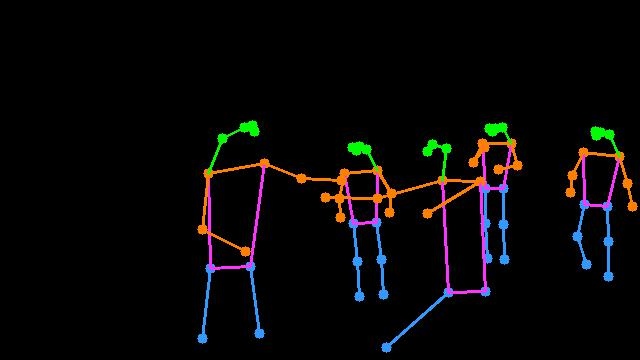normal: (326, 132, 404, 308), (562, 123, 640, 285), (464, 114, 523, 270)
